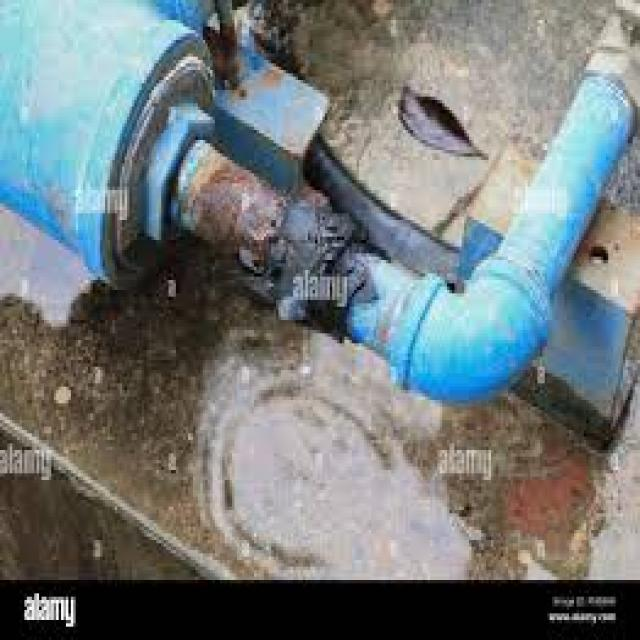corrosion: (211, 169, 418, 427)
